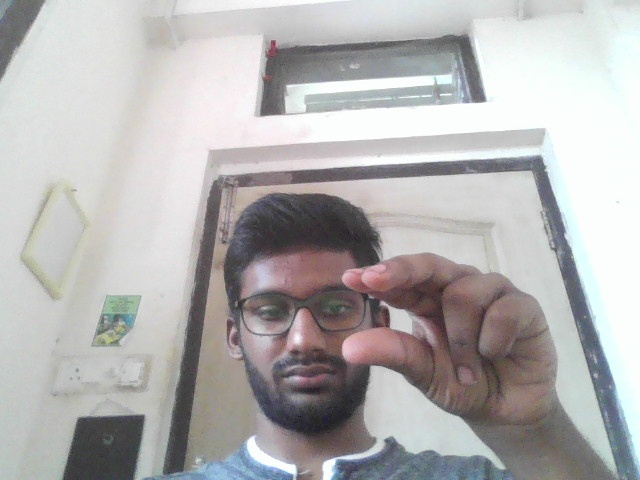No: (339, 251, 583, 426)
